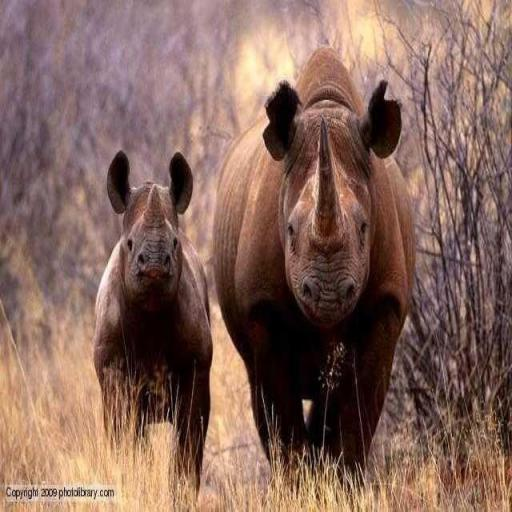Rhino: (210, 44, 416, 491), (92, 148, 213, 502)
